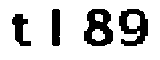8: (81, 4, 116, 51)
9: (117, 3, 149, 48)
l: (45, 4, 65, 52)
t: (9, 9, 33, 51)
